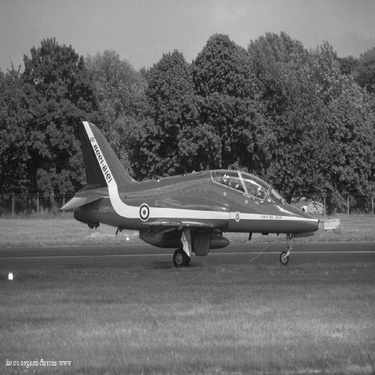airplane: (41, 106, 300, 259)
